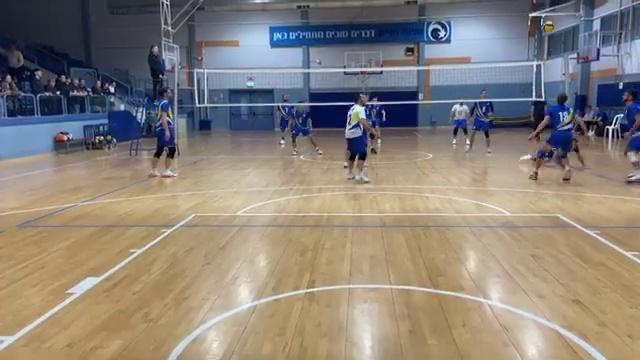ball: (542, 21, 556, 35)
